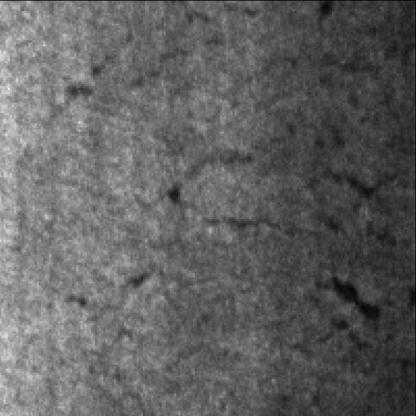crazing: (235, 50, 414, 281), (131, 225, 406, 370), (146, 154, 399, 252)
